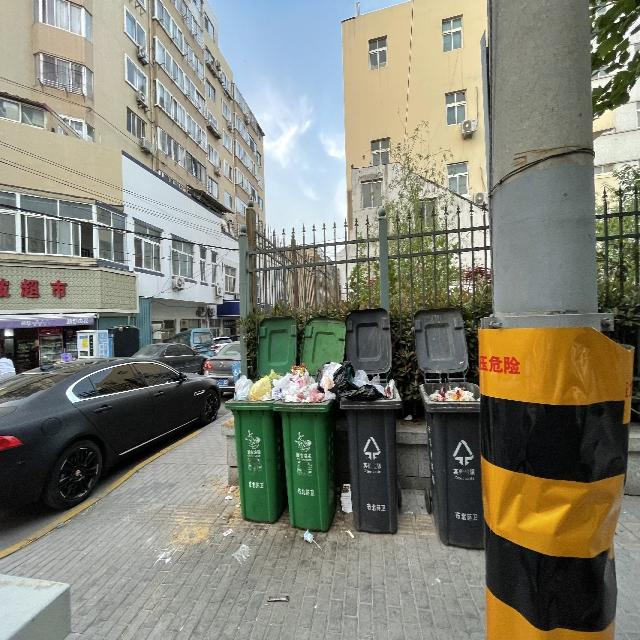overflow: (328, 361, 401, 534), (272, 360, 338, 531), (418, 381, 485, 549), (225, 366, 288, 522)
